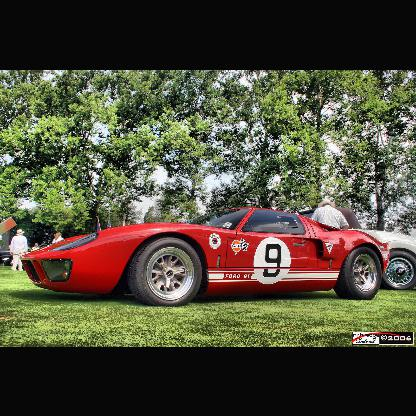Ford GT Coupe 2006: (21, 207, 387, 306)
